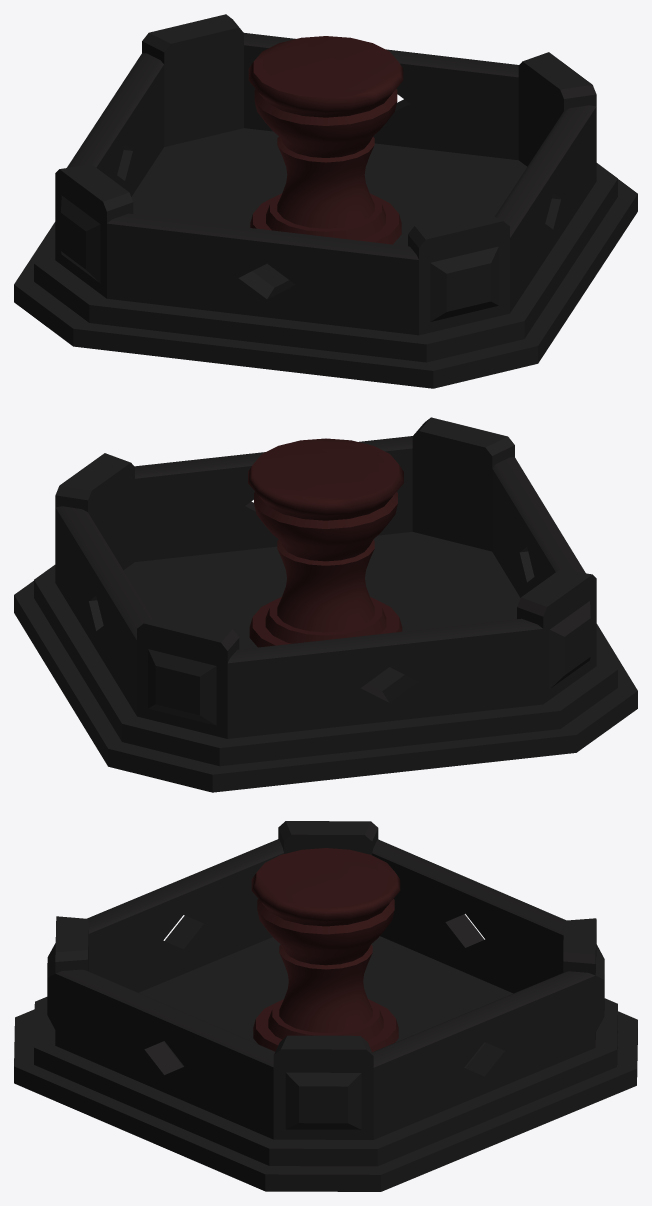
Rendered from Fountain 1.fbx.
The picture shows the model from 3 angles, top to bottom: view 1: azimuth 30°, elevation 25°; view 2: azimuth 150°, elevation 25°; view 3: azimuth 270°, elevation 25°; orthographic projection. The views are drawn at different scales.
Parts seen in each view (by area): view 1: polySurface7, polySurface8; view 2: polySurface7, polySurface8; view 3: polySurface7, polySurface8.
Boxes of the visible parts, x1=… form: polySurface7: x1=14, y1=14, x2=637, y2=388; polySurface8: x1=248, y1=36, x2=403, y2=244; polySurface7: x1=14, y1=417, x2=637, y2=792; polySurface8: x1=248, y1=438, x2=403, y2=647; polySurface7: x1=14, y1=821, x2=637, y2=1191; polySurface8: x1=251, y1=848, x2=400, y2=1051.
Bounding box in the file's own units: 11.97 × 3.86 × 11.97.
